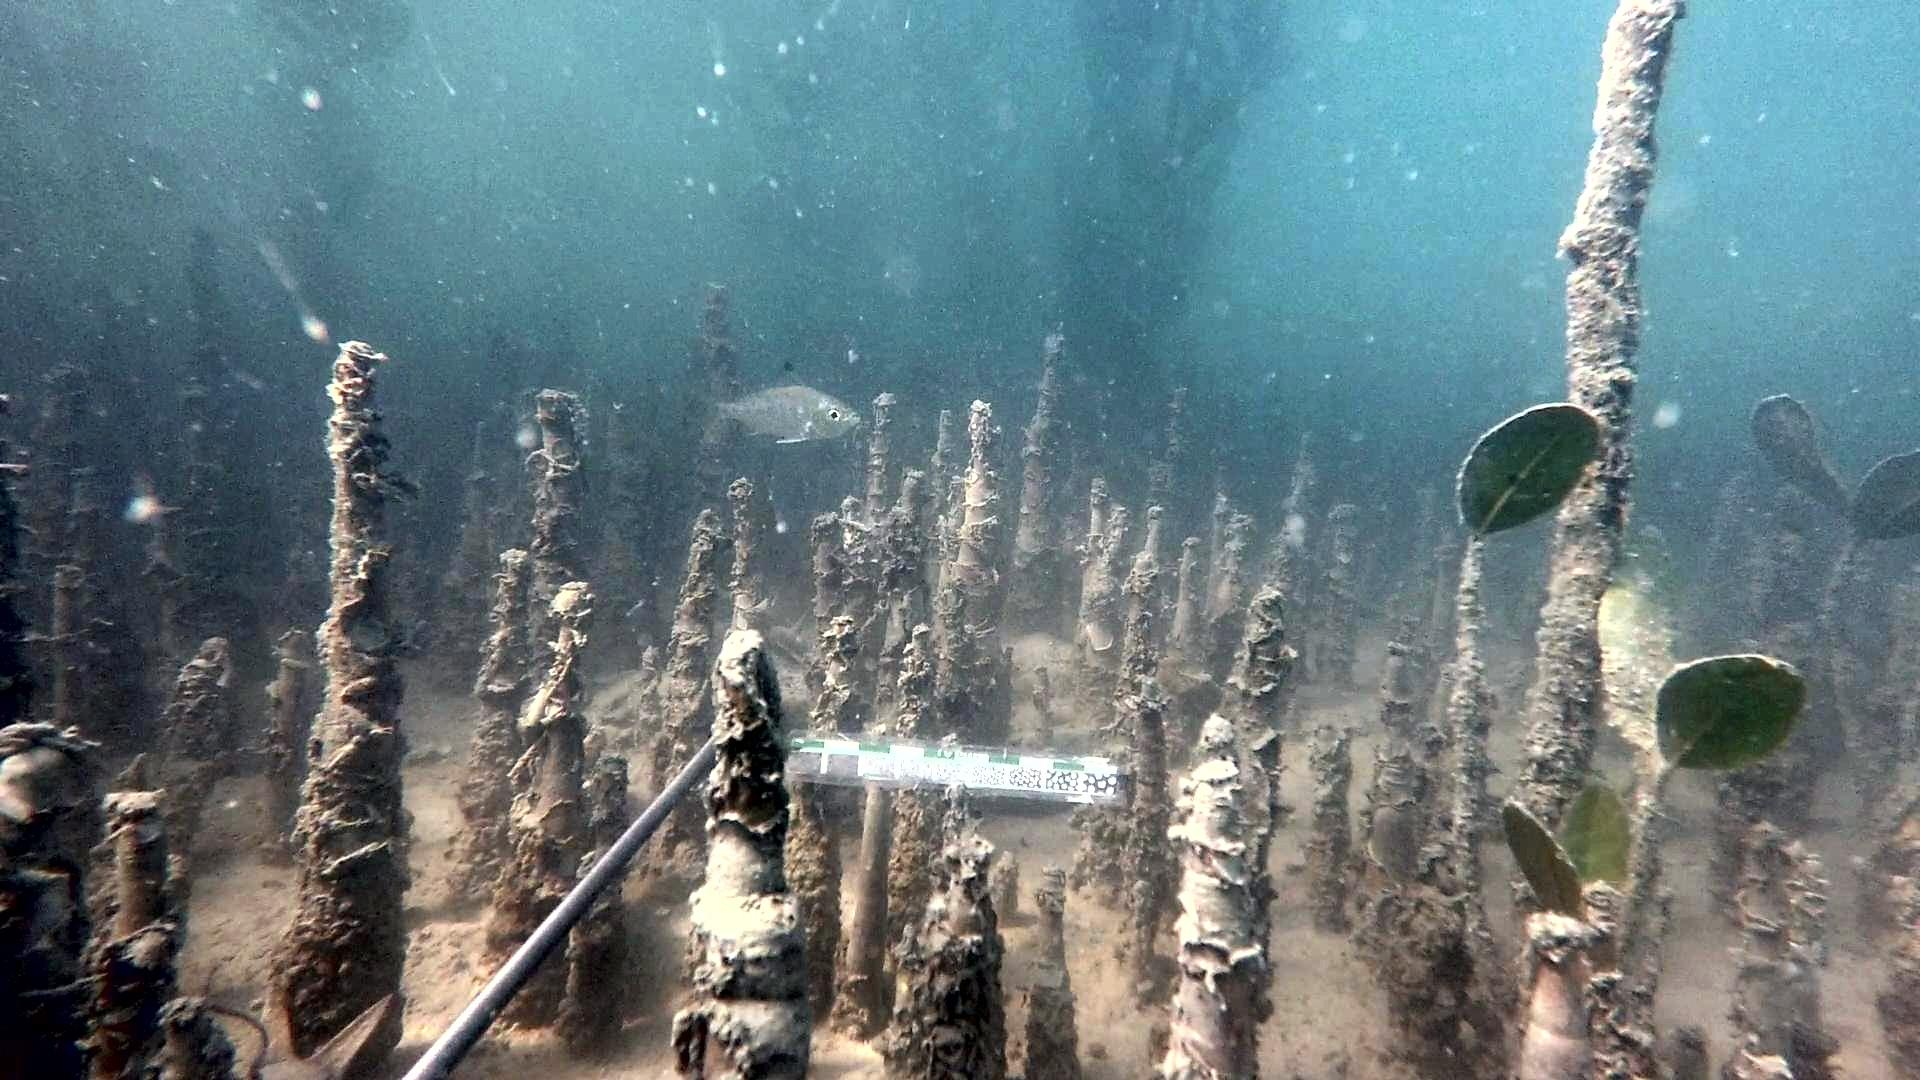gerres: (692, 359, 862, 447)
